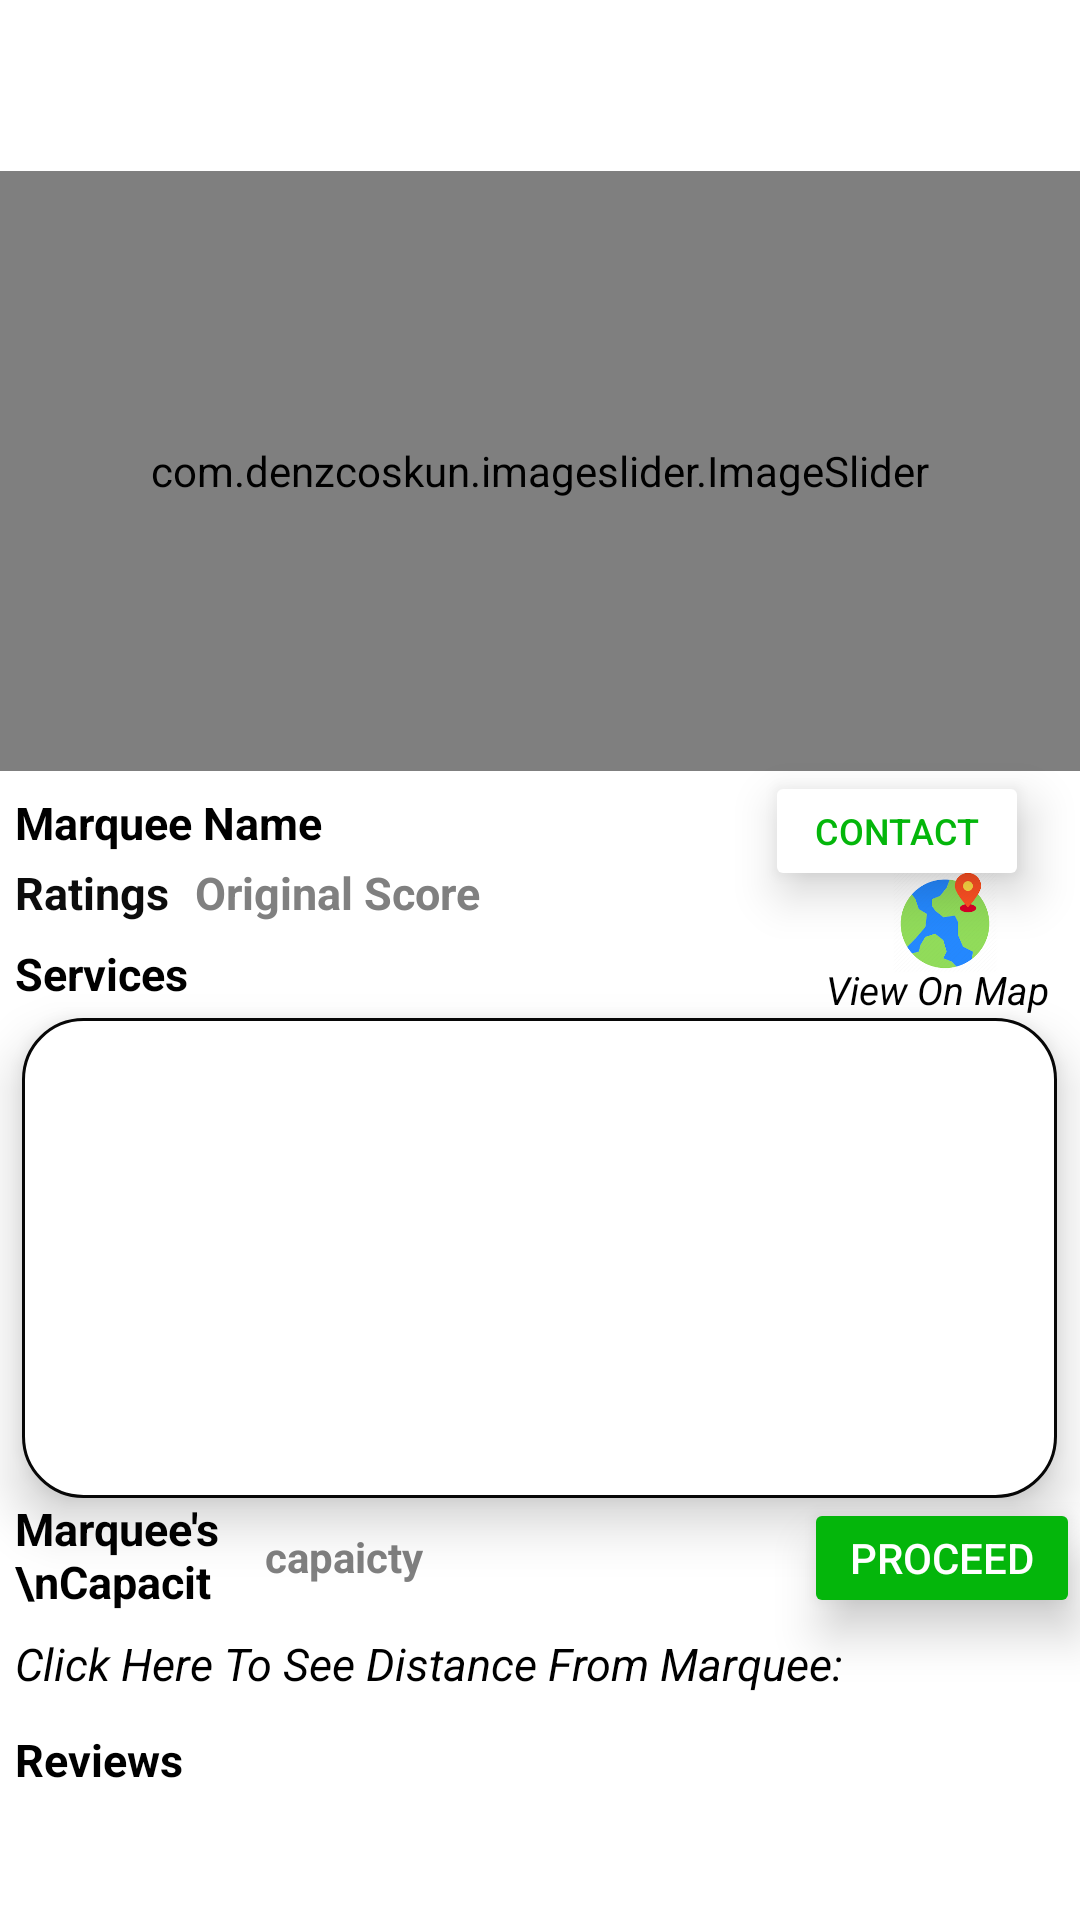

Named icons in this screenshot (1080px x 1920px) and their bounding boxes, region(x1, y1, x2, y2):
markeronearth: region(855, 868, 1025, 968)
